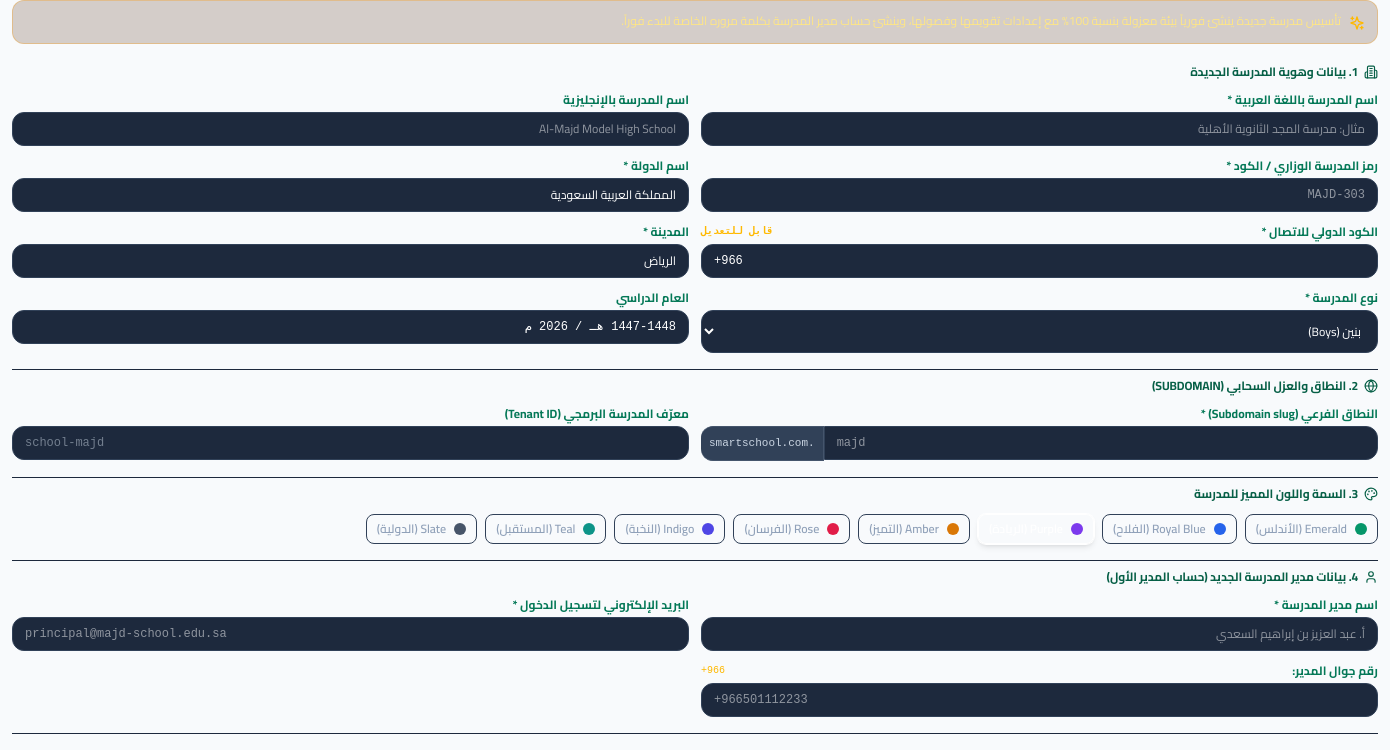
Scenario: SchoolProvisionForm › sanitizes the subdomain and auto-fills the school id and principal email
Type "  Al-Majd 99! " into the field with placeholder "majd" at x=1101, y=443, box [824,426,1378,460]
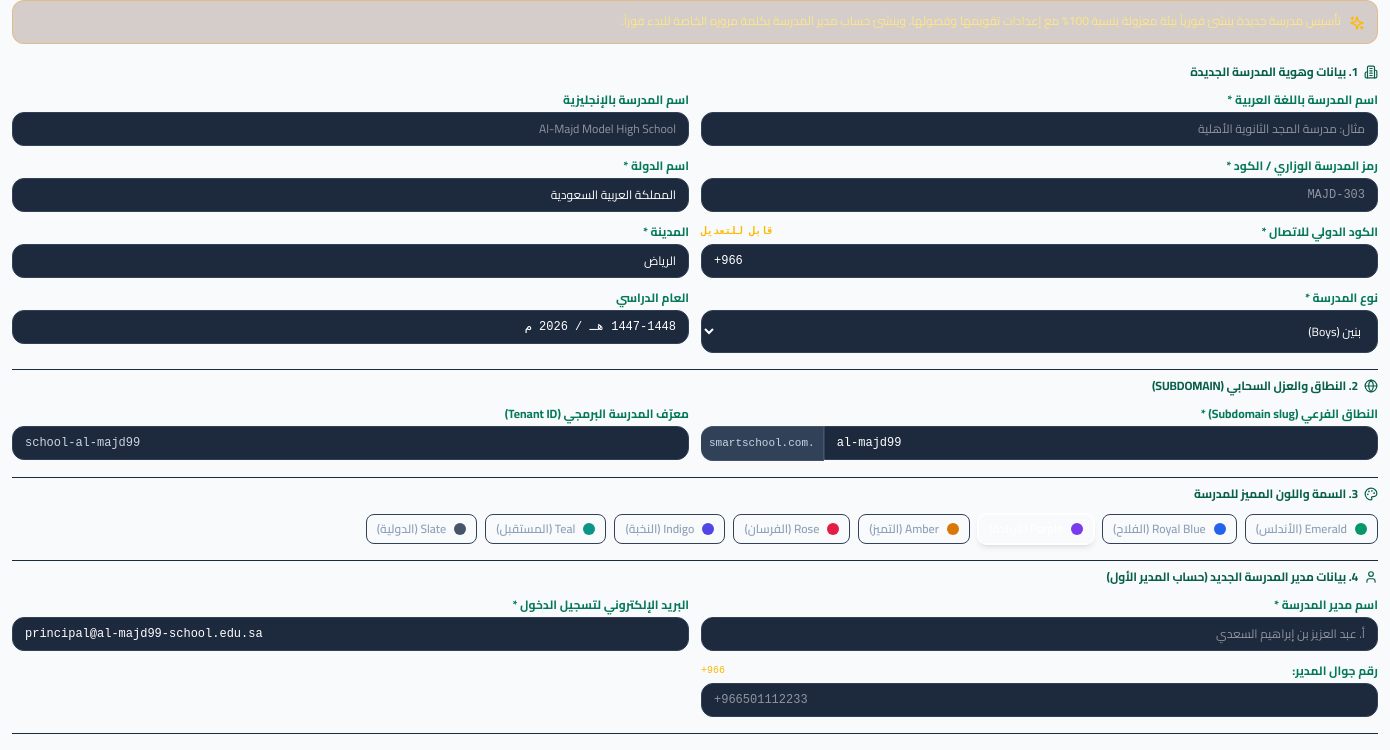
Result: the field with placeholder "majd" next to ".smartschool.com" holds "al-majd99" at [824,426,1378,460]
Result: the field with placeholder "school-majd" below "معرّف المدرسة البرمجي (Tenant ID)" holds "school-al-majd99" at [12,426,689,460]
Result: the field with placeholder "principal@majd-school.edu.sa" below "البريد الإلكتروني لتسجيل الدخول *" holds "principal@al-majd99-school.edu.sa" at [12,616,689,650]
